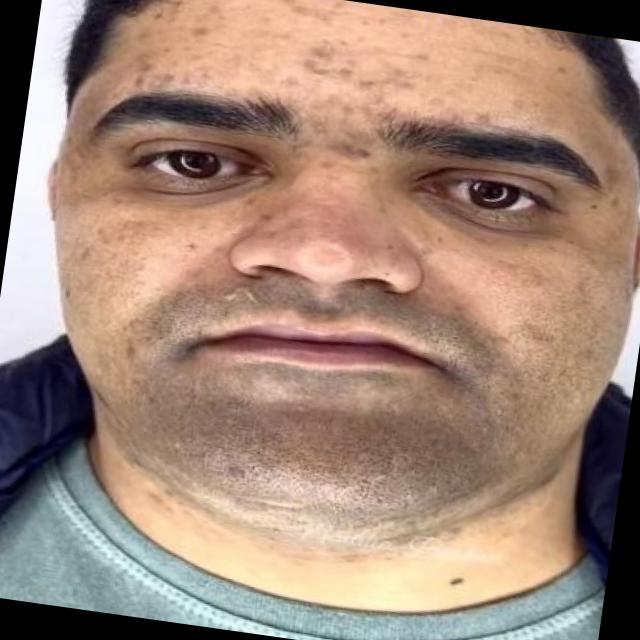melasma: (100, 0, 622, 193), (410, 224, 640, 425), (66, 183, 271, 354), (304, 114, 402, 206)
